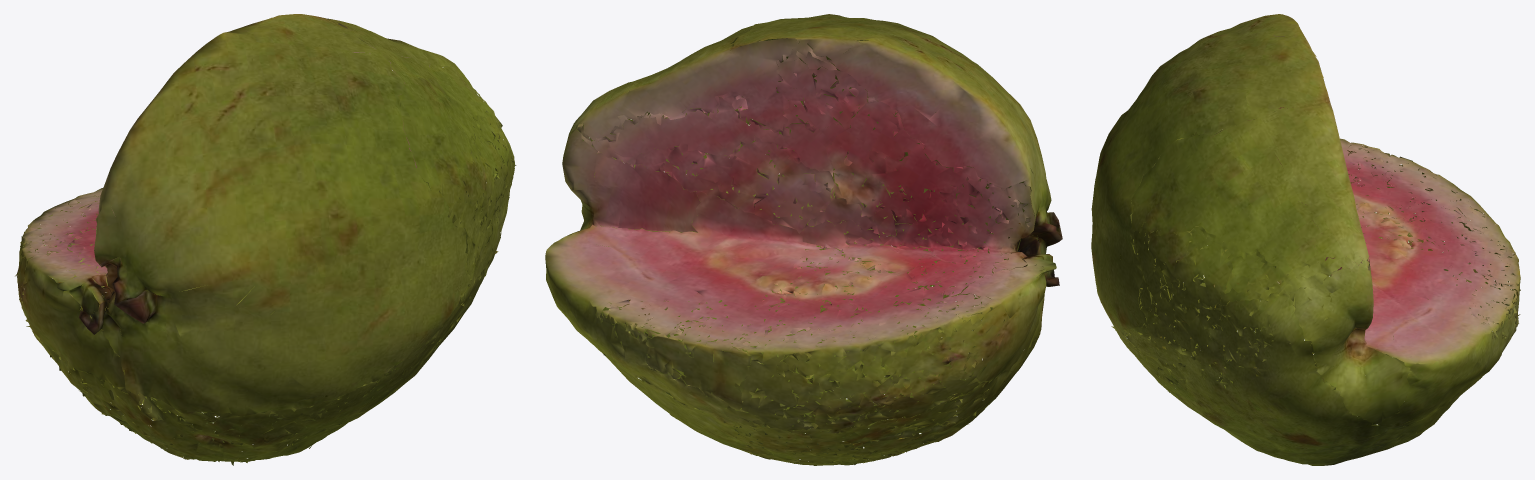
The model's file is guava.glb.
The picture shows the model from 3 angles, left to right: view 1: azimuth 30°, elevation 25°; view 2: azimuth 150°, elevation 25°; view 3: azimuth 270°, elevation 25°; orthographic projection. The views are drawn at different scales.
Visible parts, largest first — view 1: guava; view 2: guava; view 3: guava.
Boxes of the visible parts, left/top/right/bottom form: guava: left=15, top=14, right=516, bottom=465; guava: left=545, top=14, right=1062, bottom=465; guava: left=1091, top=14, right=1520, bottom=465.
Bounding box in the file's own units: 1 × 0.863 × 0.8357.
Materials: 1 (1 with a texture image).
